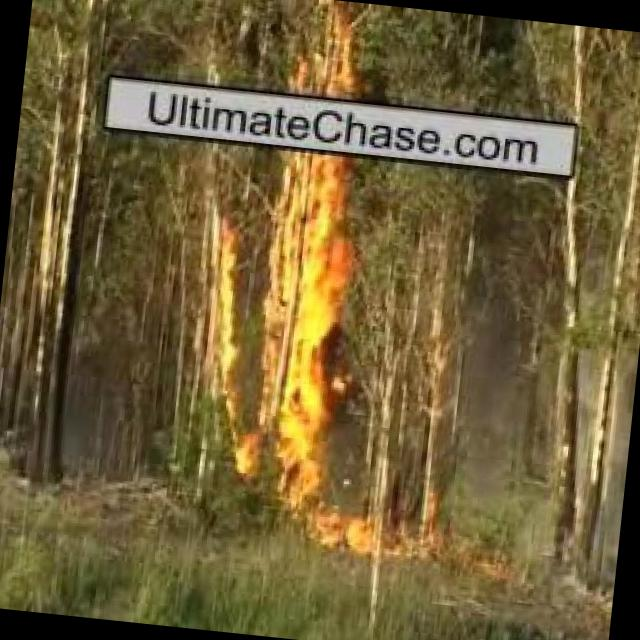Fire: (246, 156, 356, 493), (182, 217, 256, 420), (282, 518, 398, 556), (306, 20, 355, 94)
